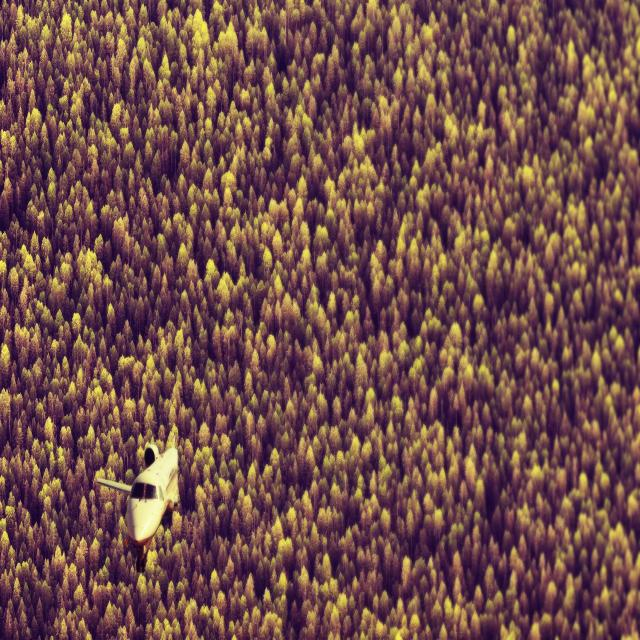airplane: (95, 425, 179, 573)
